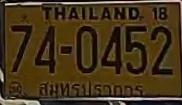0: (76, 25, 97, 72)
2: (150, 25, 172, 74)
4: (34, 25, 55, 72), (101, 26, 121, 72)
5: (125, 25, 146, 73)
7: (10, 24, 32, 72)
SPK: (35, 79, 147, 97)
